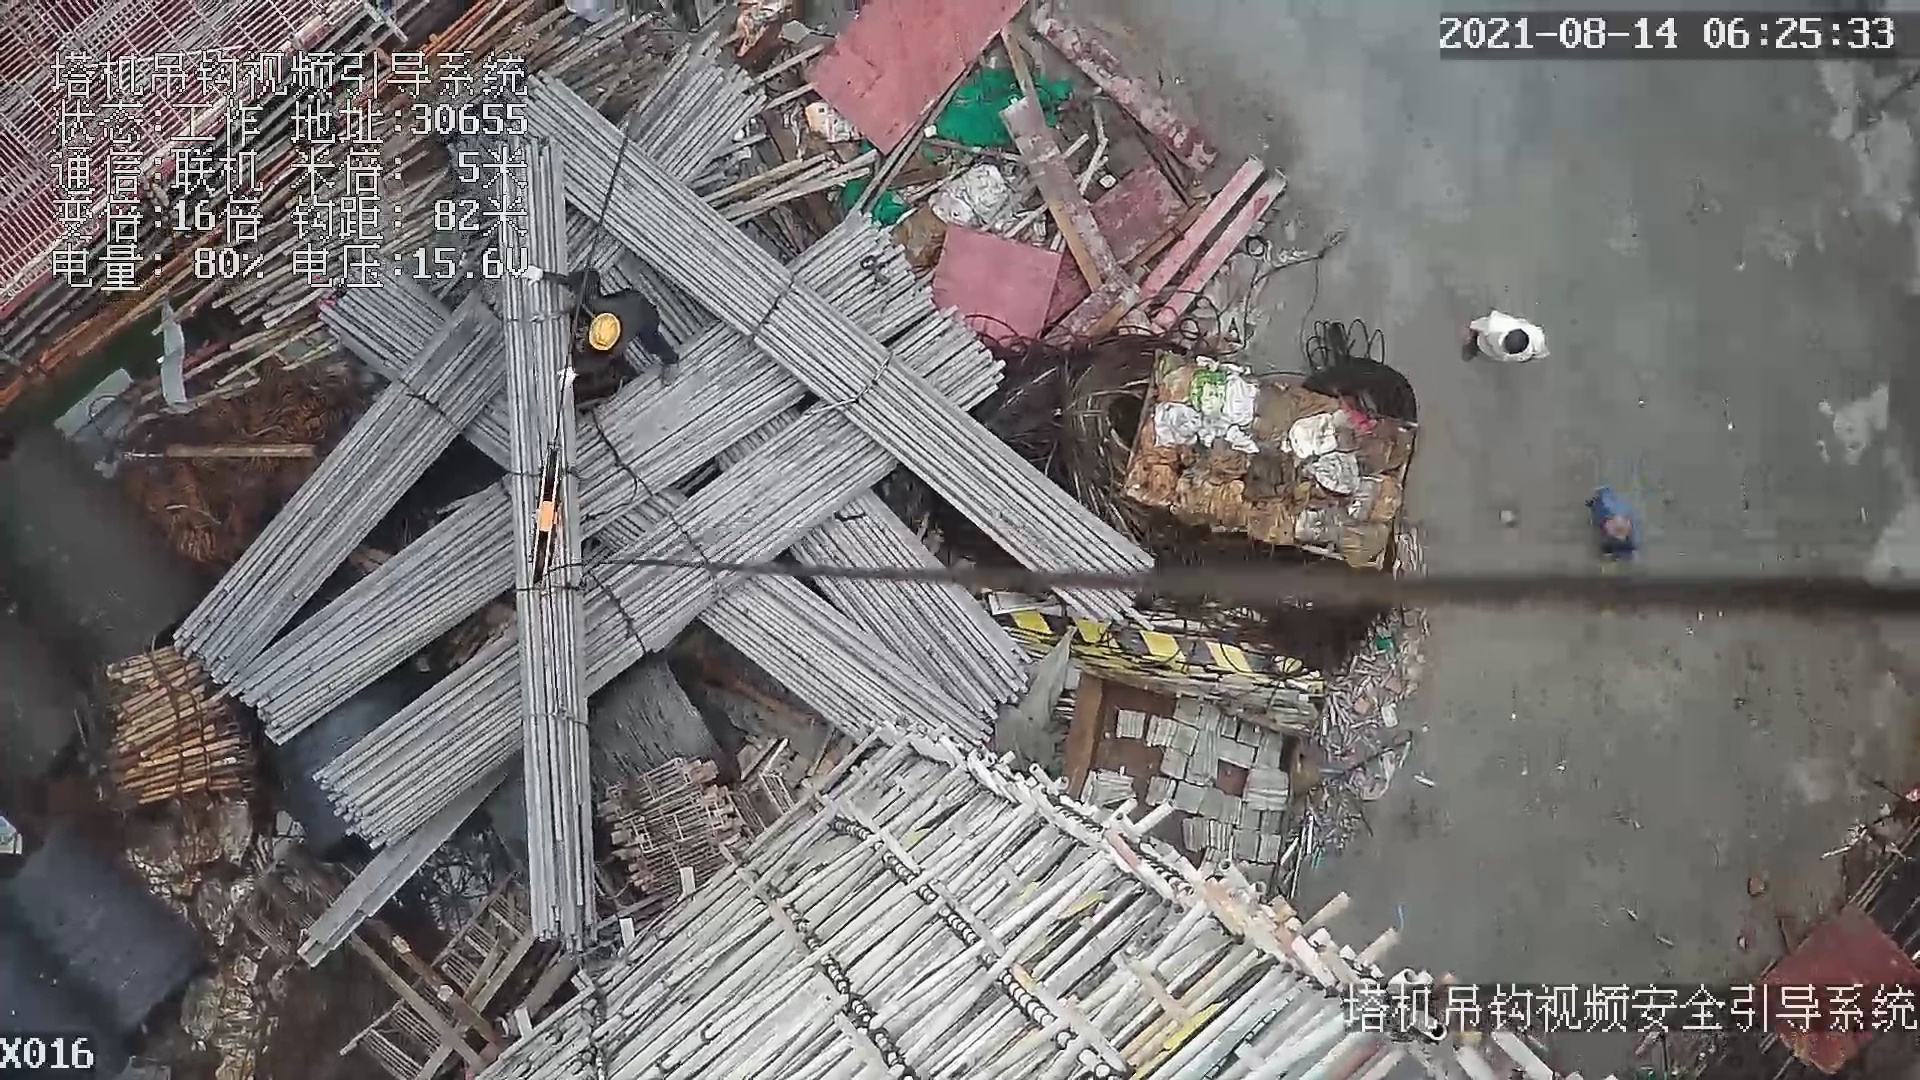helmet: (589, 312, 620, 352)
hook: (523, 439, 564, 594)
person: (520, 256, 687, 389), (1456, 309, 1555, 374), (1592, 485, 1642, 565)
